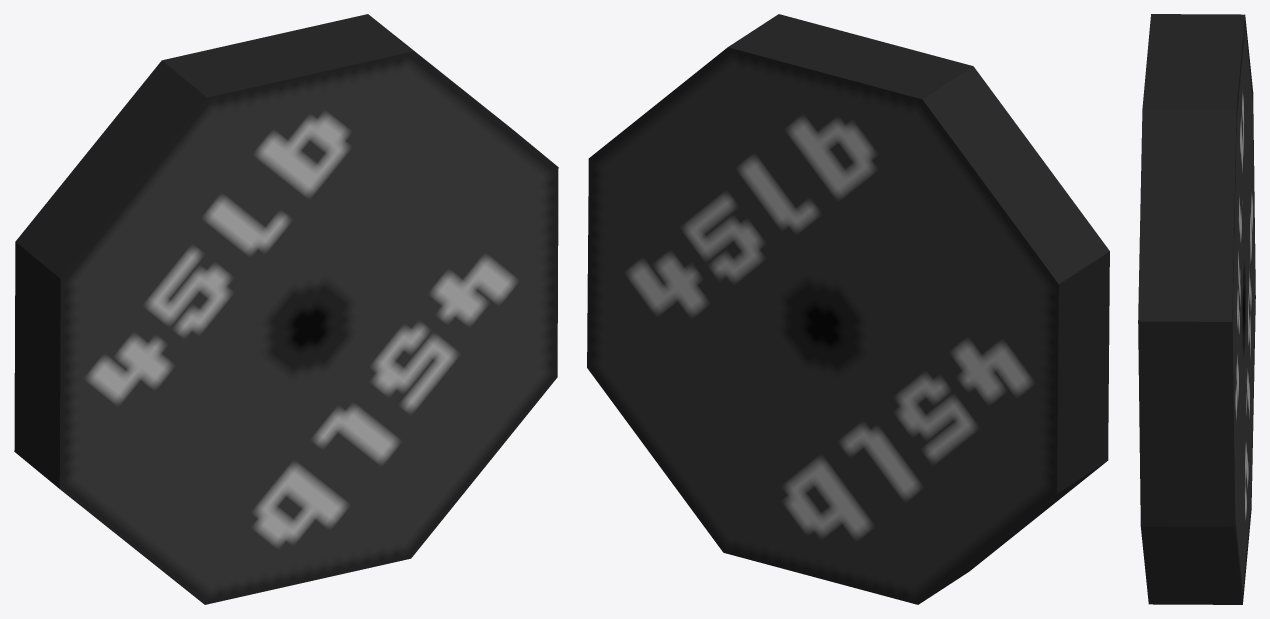
File: WeightPlate.fbx
3 views of the same model, side by side, from view 1: azimuth 30°, elevation 25°; view 2: azimuth 150°, elevation 25°; view 3: azimuth 270°, elevation 25° (orthographic). The views are drawn at different scales.
Parts seen in each view (by area): view 1: Cylinder.005; view 2: Cylinder.005; view 3: Cylinder.005.
Part boxes in pixels (x1,y1,x2,y2): Cylinder.005: (14,14,558,604); Cylinder.005: (587,14,1109,604); Cylinder.005: (1138,14,1255,604).
Size of the model in its own units: 200 by 199 by 42.75.
